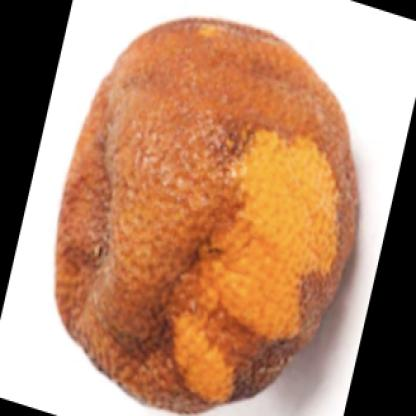rotten: (55, 19, 360, 416)
